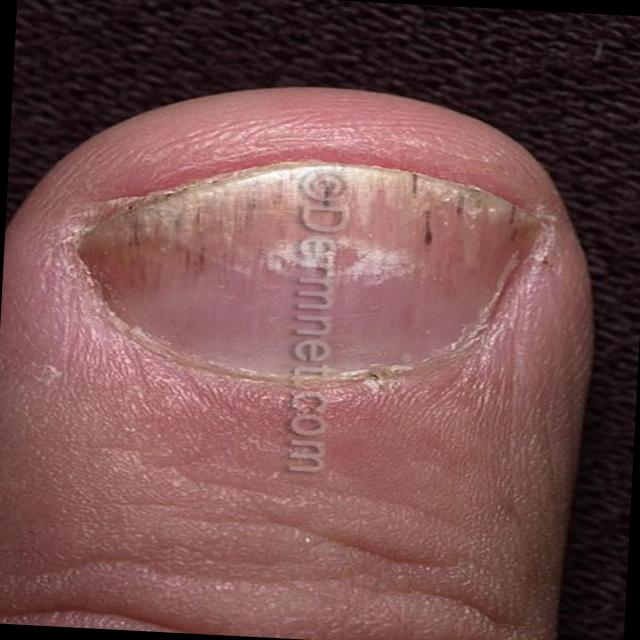Nail: (61, 166, 544, 380)
